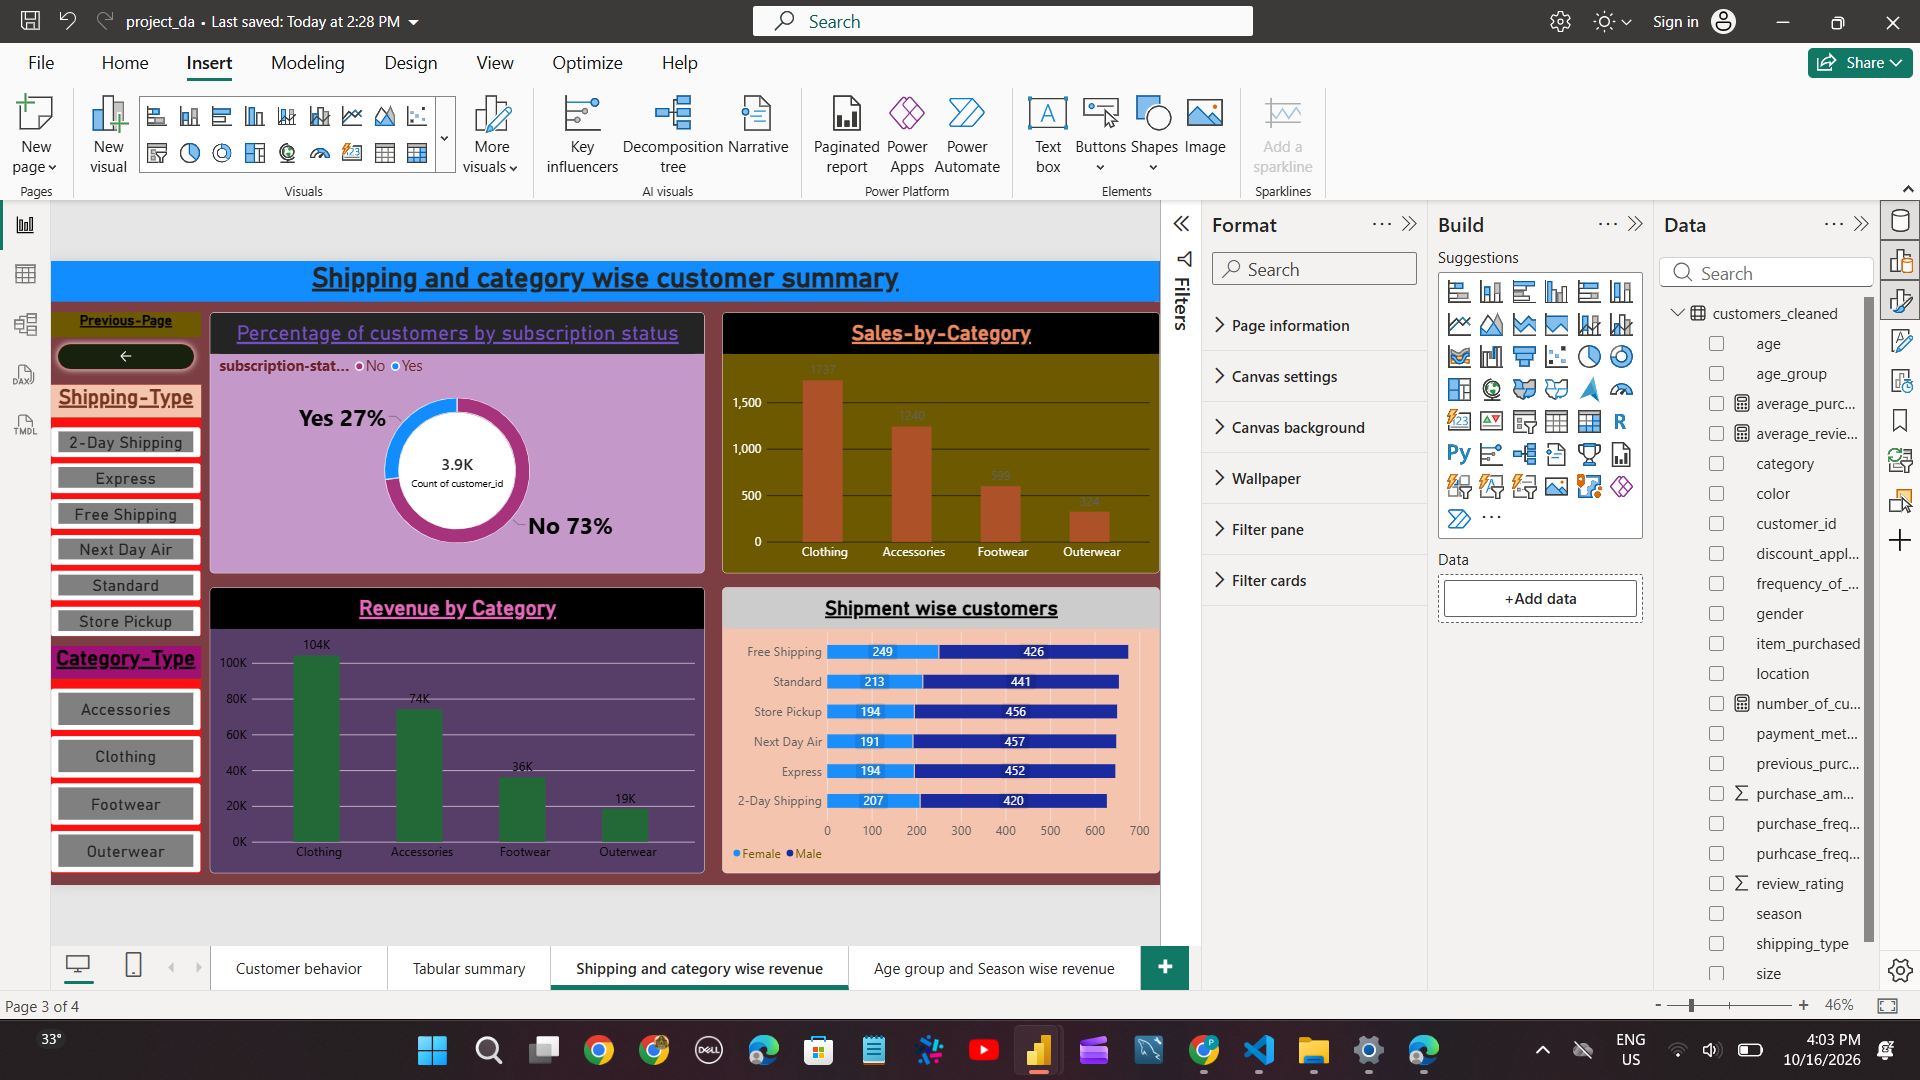

This screenshot's page, from the dashboard's own definition file:
{"tool":"powerbi","page":{"name":"Shipping and category wise customer behavior","canvas":[1920,1080],"ordinal":2},"visuals":[{"type":"donutChart","title":"Percentage of customers by subscription status","fields":{"Category":["customers_cleaned.subscription_status"],"Y":["CountNonNull(customers_cleaned.customer_id)"]},"box":[274.8,88.7,857,452.3],"z":0},{"type":"clusteredColumnChart","title":"Revenue by Category","fields":{"Category":["customers_cleaned.category"],"Y":["Sum(customers_cleaned.purchase_amount)"]},"box":[274.8,564.8,857,495.6],"z":1000},{"type":"clusteredColumnChart","title":"Sales-by-Category","fields":{"Category":["customers_cleaned.category"],"Y":["CountNonNull(customers_cleaned.purchase_amount)"]},"box":[1162.1,88.7,757.4,452.3],"z":2000},{"type":"advancedSlicerVisual","title":"Shipping-Type","fields":{"Values":["customers_cleaned.shipping_type"]},"box":[0,214.3,259.7,435],"z":3000},{"type":"barChart","title":"Shipment wise customers","fields":{"Category":["customers_cleaned.shipping_type"],"Series":["customers_cleaned.gender"],"Y":["CountNonNull(customers_cleaned.customer_id)"]},"box":[1162.1,564.8,757.4,495.6],"z":4000},{"type":"advancedSlicerVisual","title":"Category-Type","fields":{"Values":["customers_cleaned.category"]},"box":[0,666.6,259.7,393.9],"z":5000},{"type":"textbox","title":"Shipping and category wise customer summary","box":[0,0,1919.6,71.4],"z":5001},{"type":"actionButton","title":"Move-Forward","box":[0,88.7,259.7,110.4],"z":5002}]}

Visuals, with their boxes on the page's 1920x1080 design canvas (x1, y1, x2, y2). These are canvas units, not pixel positions in the 1920x1080 screenshot, which may show the page scaled, cropped or inside an application window:
"Percentage of customers by subscription status" donutChart: locate(275, 89, 1132, 541)
"Revenue by Category" clusteredColumnChart: locate(275, 565, 1132, 1060)
"Sales-by-Category" clusteredColumnChart: locate(1162, 89, 1920, 541)
"Shipping-Type" advancedSlicerVisual: locate(0, 214, 260, 649)
"Shipment wise customers" barChart: locate(1162, 565, 1920, 1060)
"Category-Type" advancedSlicerVisual: locate(0, 667, 260, 1060)
"Shipping and category wise customer summary" textbox: locate(0, 0, 1920, 71)
"Move-Forward" actionButton: locate(0, 89, 260, 199)
